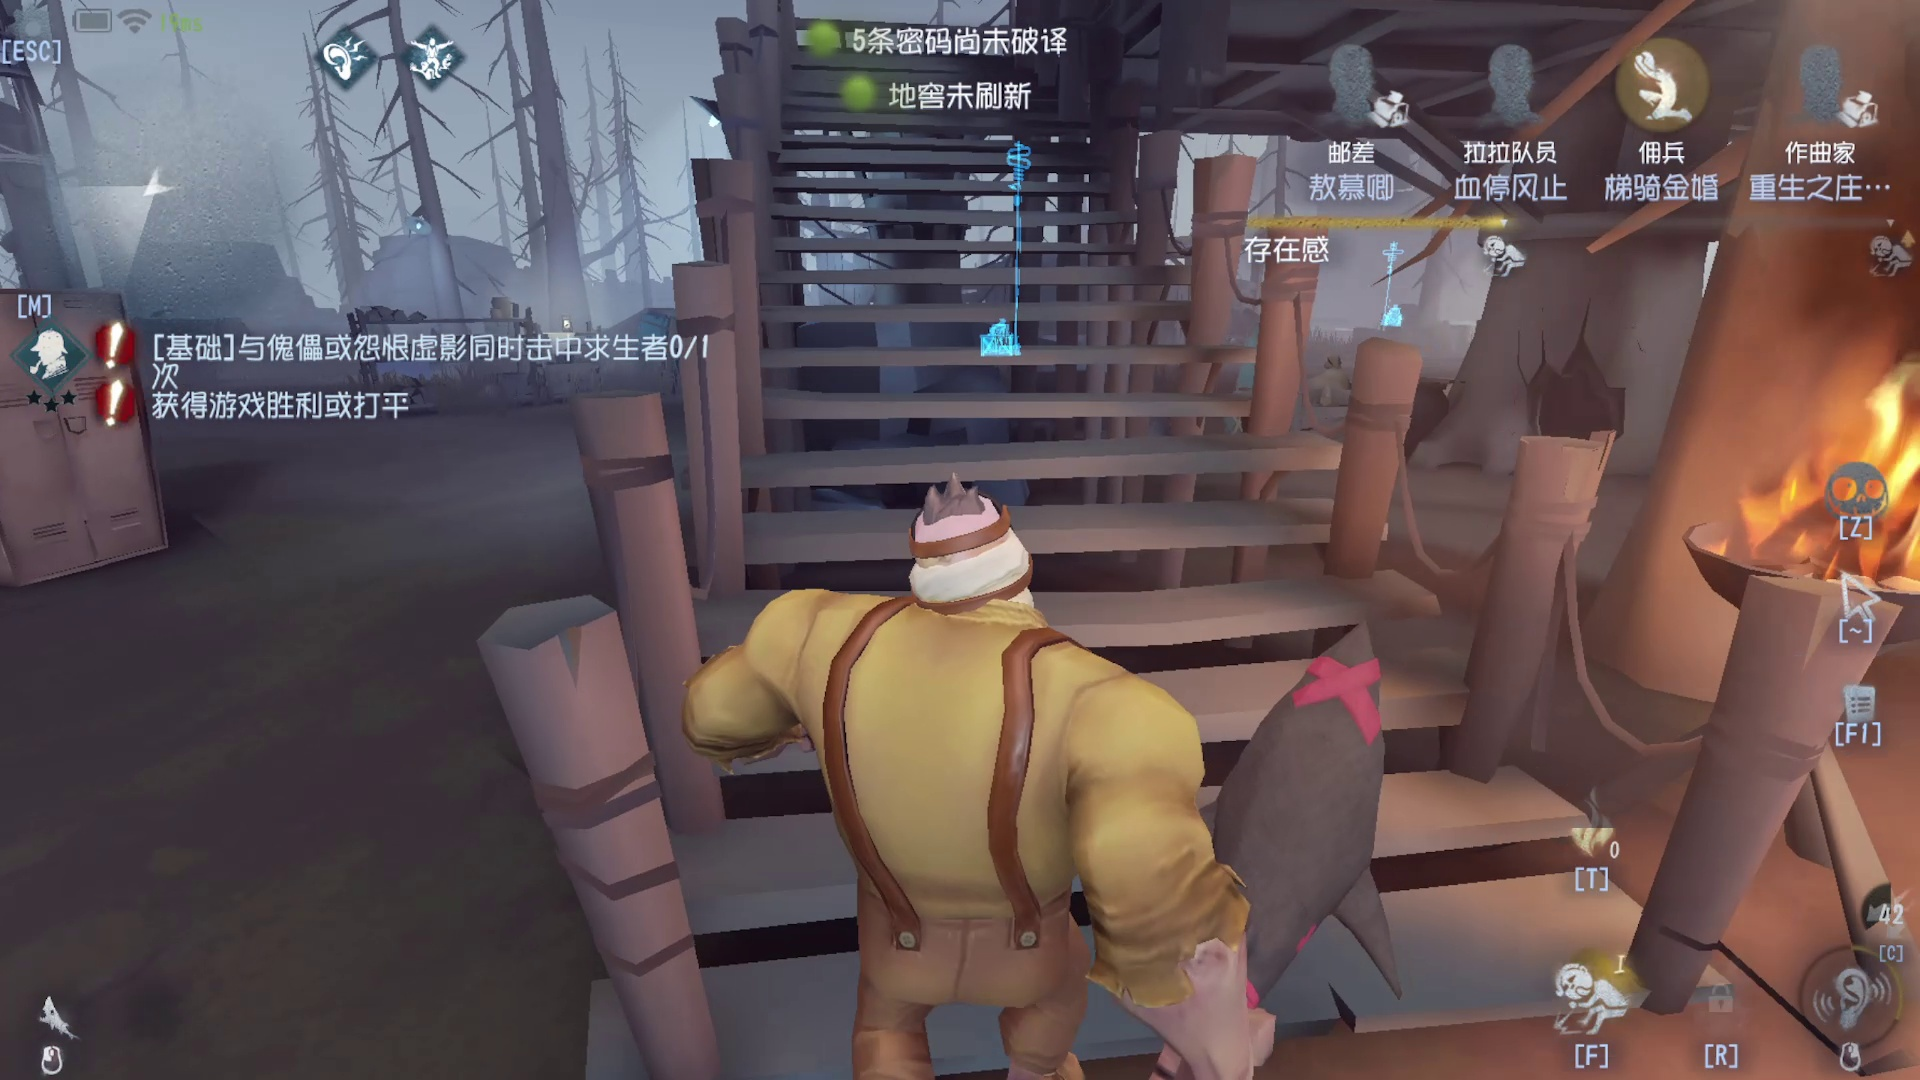密码机: (961, 135, 1039, 378)
